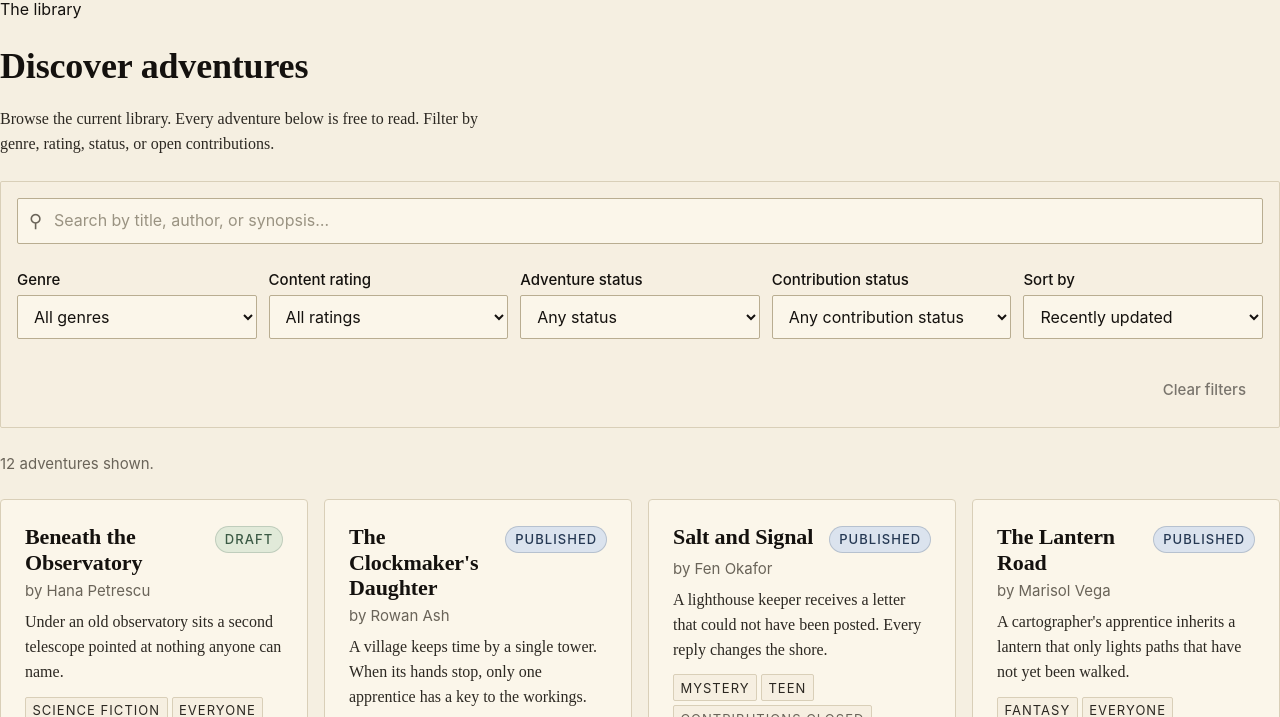
Test case: Discover — URL-backed filters › stores the search term in the URL and narrows results
This screenshot has width=1280, height=717.
Type "lantern" into the search field with test id "discover-search" at x=640, y=221, box [17,198,1263,244]
(page scrolled)
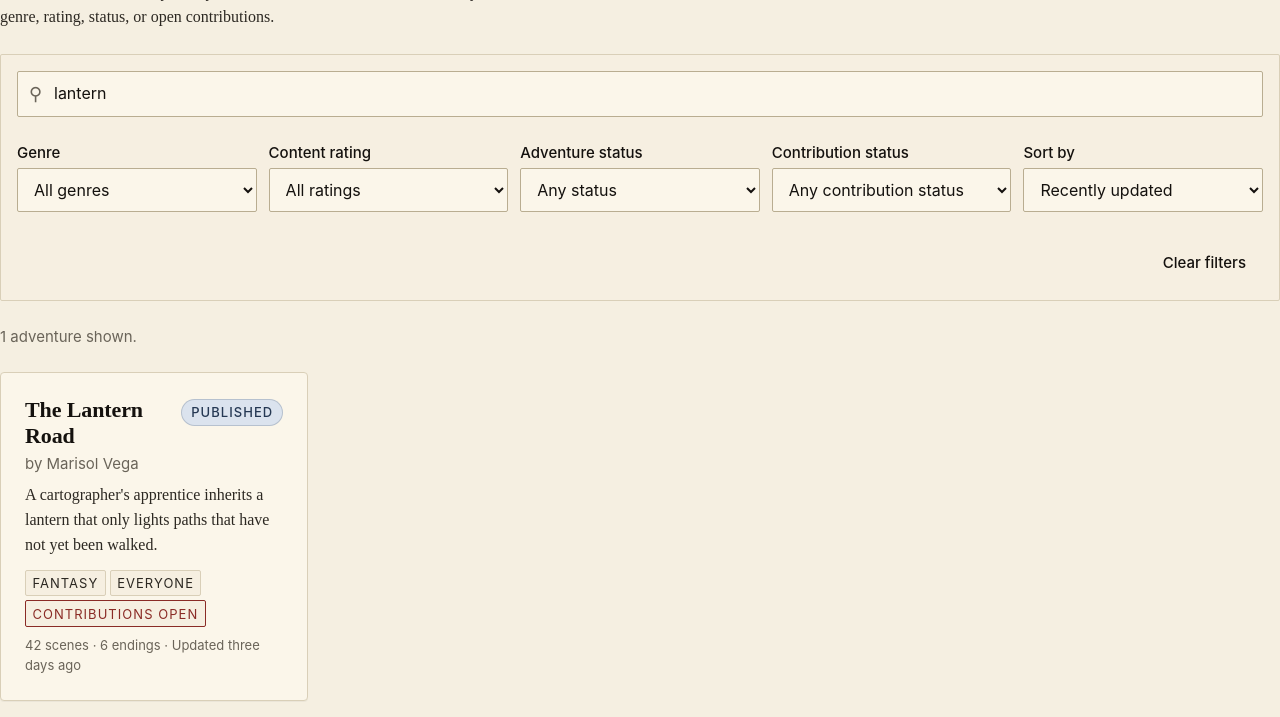
Result: the number of elements with test id "adventure-card" is 1 at [0,372,308,701]
